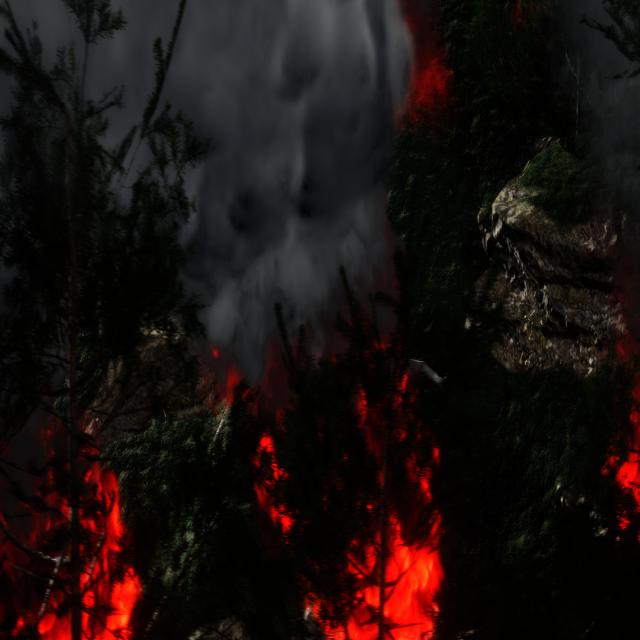Human: (380, 300, 450, 396)
